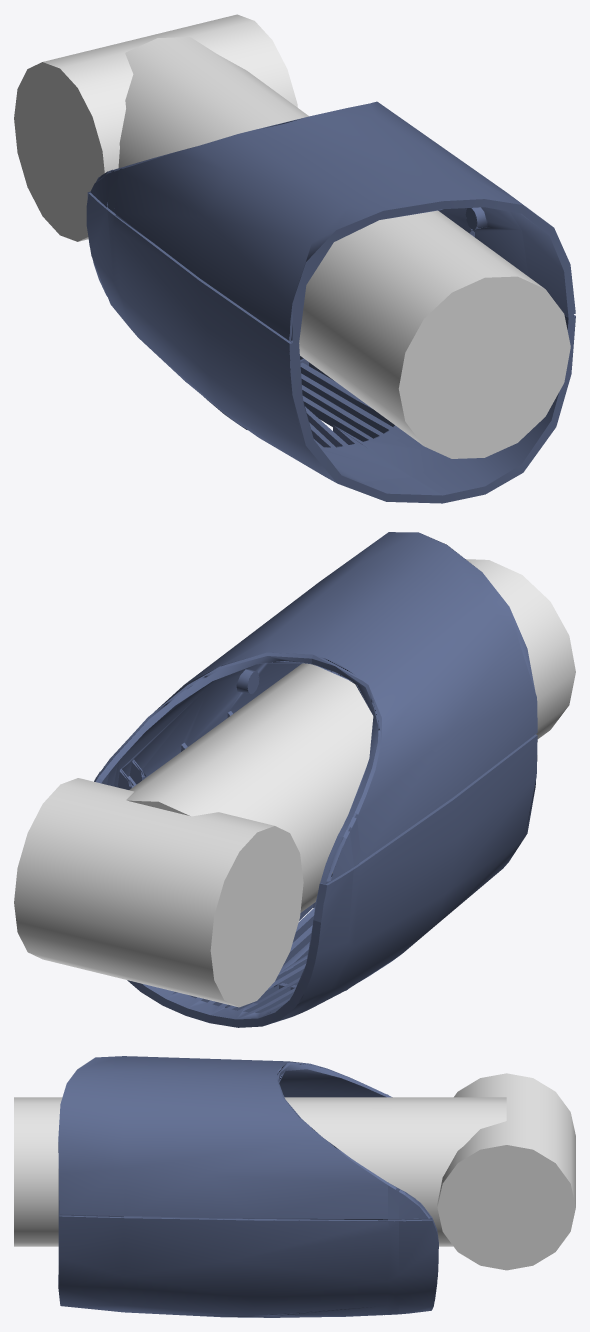
The model's file is icub_l_upper_leg.glb.
3 renders of one model, top to bottom at view 1: azimuth 30°, elevation 25°; view 2: azimuth 150°, elevation 25°; view 3: azimuth 270°, elevation 25°, orthographic. The views are drawn at different scales.
Visible parts, largest first — view 1: l_thigh_cyl1_mesh, l_upperleg_mesh.001, l_upperleg_mesh, l_thigh_cyl2_mesh.001, l_thigh_cyl2_mesh; view 2: l_upperleg_mesh.001, l_thigh_cyl2_mesh, l_thigh_cyl1_mesh, l_upperleg_mesh, l_thigh_cyl2_mesh.001; view 3: l_upperleg_mesh.001, l_upperleg_mesh, l_thigh_cyl1_mesh, l_thigh_cyl2_mesh.001, l_thigh_cyl2_mesh.
Part boxes in pixels (bbox=[...]): l_thigh_cyl1_mesh: bbox=[118, 37, 570, 458]; l_upperleg_mesh.001: bbox=[90, 101, 575, 343]; l_upperleg_mesh: bbox=[86, 191, 575, 503]; l_thigh_cyl2_mesh.001: bbox=[14, 62, 104, 241]; l_thigh_cyl2_mesh: bbox=[43, 14, 297, 241]; l_upperleg_mesh.001: bbox=[94, 532, 537, 884]; l_thigh_cyl2_mesh: bbox=[14, 778, 274, 1007]; l_thigh_cyl1_mesh: bbox=[126, 559, 575, 912]; l_upperleg_mesh: bbox=[127, 734, 537, 1027]; l_thigh_cyl2_mesh.001: bbox=[210, 826, 303, 1007]; l_upperleg_mesh.001: bbox=[58, 1056, 432, 1221]; l_upperleg_mesh: bbox=[58, 1214, 438, 1317]; l_thigh_cyl1_mesh: bbox=[14, 1097, 506, 1246]; l_thigh_cyl2_mesh.001: bbox=[437, 1145, 575, 1270]; l_thigh_cyl2_mesh: bbox=[437, 1073, 575, 1206].
Size of the model in its own units: 0.1029 by 0.1178 by 0.2555.
